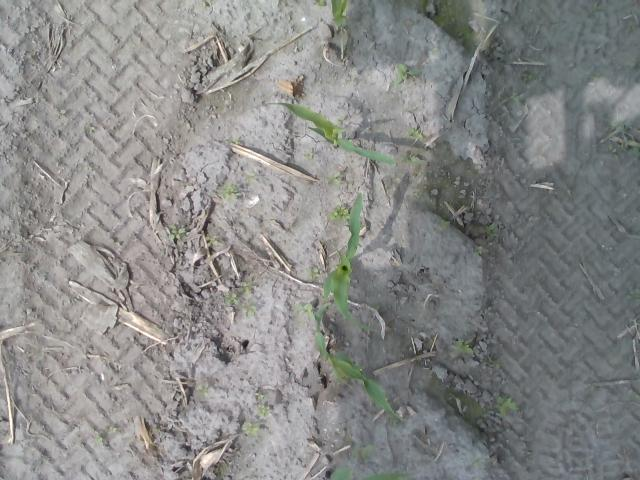Maize: (263, 96, 399, 172), (312, 330, 404, 424), (320, 190, 373, 334), (321, 466, 418, 480), (329, 0, 350, 29)
Weeds: (220, 282, 258, 315), (610, 128, 640, 158), (390, 63, 422, 84), (326, 203, 348, 221), (452, 338, 474, 355), (499, 396, 519, 414), (294, 302, 314, 320), (398, 152, 422, 166), (324, 171, 343, 187), (221, 185, 241, 200), (352, 446, 375, 458), (241, 421, 261, 434), (168, 227, 185, 241), (204, 235, 220, 248), (306, 267, 320, 279), (486, 222, 497, 237), (256, 404, 270, 415), (310, 0, 328, 8), (246, 172, 258, 184), (197, 385, 209, 396), (405, 126, 416, 137), (522, 72, 534, 81), (93, 435, 104, 444)
